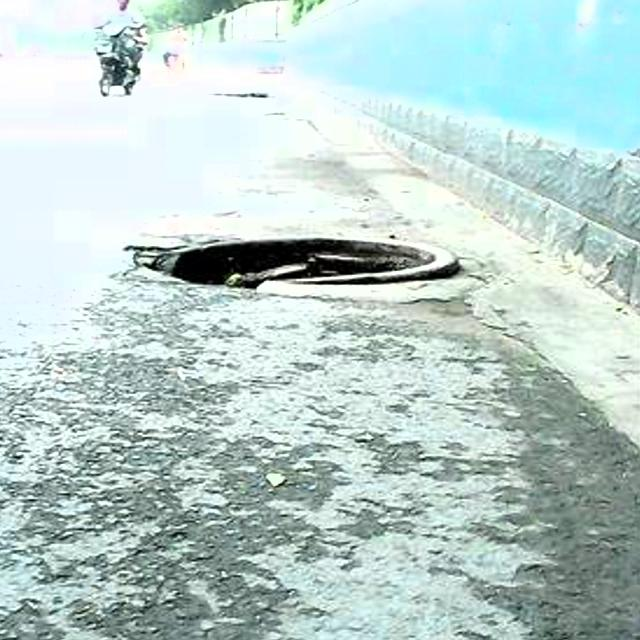broke: (68, 202, 493, 333)
